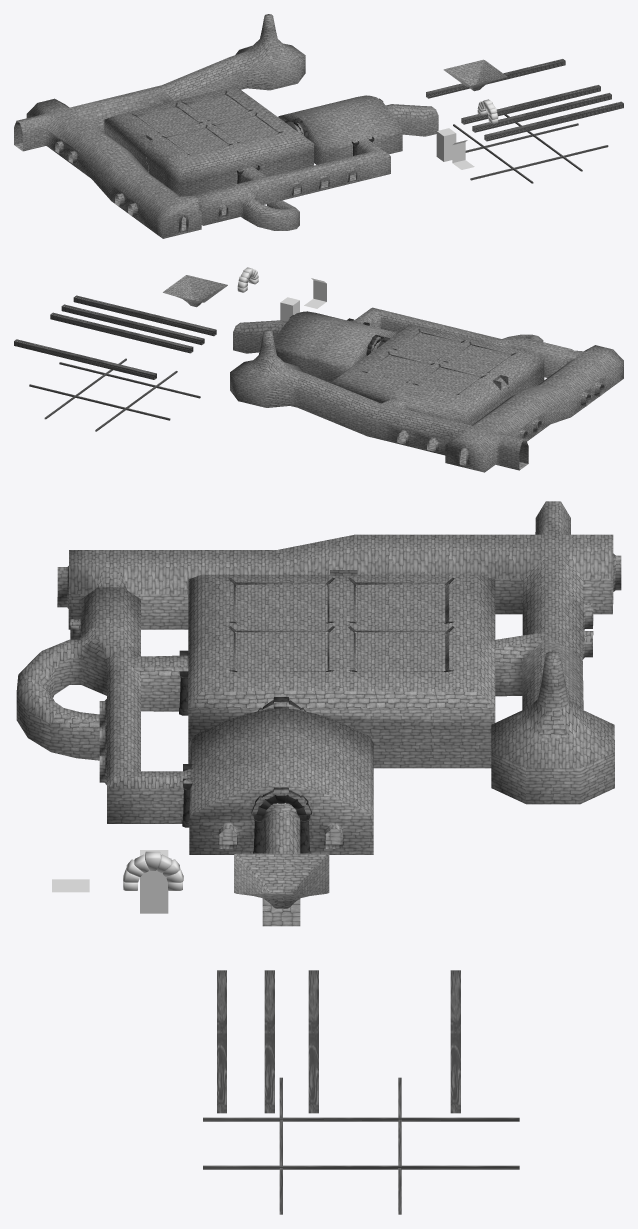
Rendered from dungeontex.glb.
3 views of the same model, one above another, from view 1: azimuth 30°, elevation 25°; view 2: azimuth 150°, elevation 25°; view 3: azimuth 270°, elevation 25° (orthographic). The views are drawn at different scales.
Parts seen in each view (by area): view 1: Plane, Cube, Cube.023, Cube.001, Plane.001, Cube.015; view 2: Plane, Cube, Cube.023, Plane.001, Cube.001, Cube.015; view 3: Plane, Cube, Cube.023, Cube.015, Cube.001.
Part boxes in pixels (<box>): Plane: <box>14,14,438,238</box>; Cube: <box>426,59,623,183</box>; Cube.023: <box>443,59,507,91</box>; Cube.001: <box>436,128,456,161</box>; Plane.001: <box>452,140,474,169</box>; Cube.015: <box>477,99,498,123</box>; Plane: <box>230,307,623,472</box>; Cube: <box>14,295,216,431</box>; Cube.023: <box>163,275,227,307</box>; Plane.001: <box>304,278,326,308</box>; Cube.001: <box>280,297,299,321</box>; Cube.015: <box>237,267,258,292</box>; Plane: <box>16,501,621,926</box>; Cube: <box>203,970,519,1214</box>; Cube.023: <box>234,853,329,908</box>; Cube.015: <box>123,851,183,890</box>; Cube.001: <box>140,850,168,913</box>.
Bounding box in the file's own units: 84.43 × 22.81 × 42.4.
7 materials, 7 textured.
